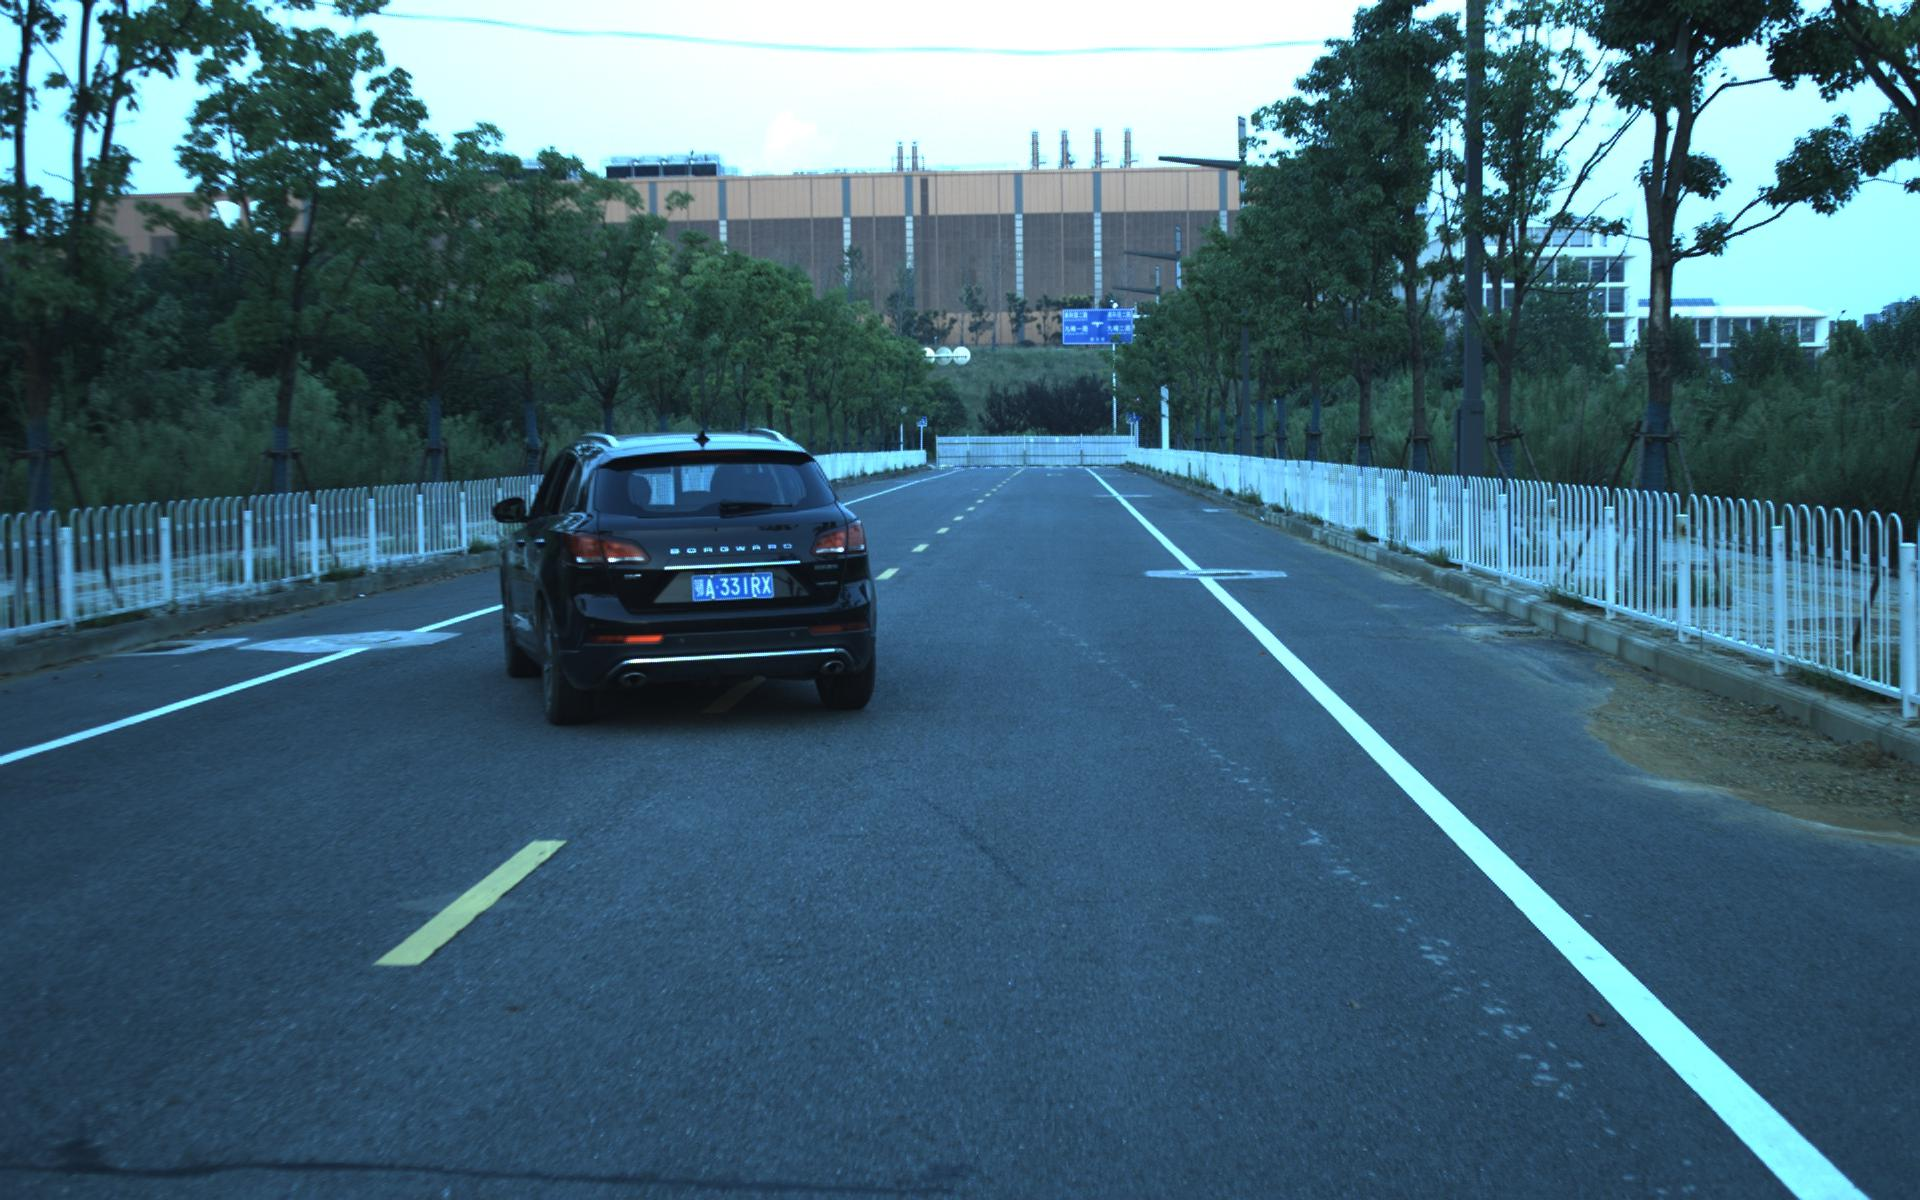Car: (491, 422, 886, 731)
